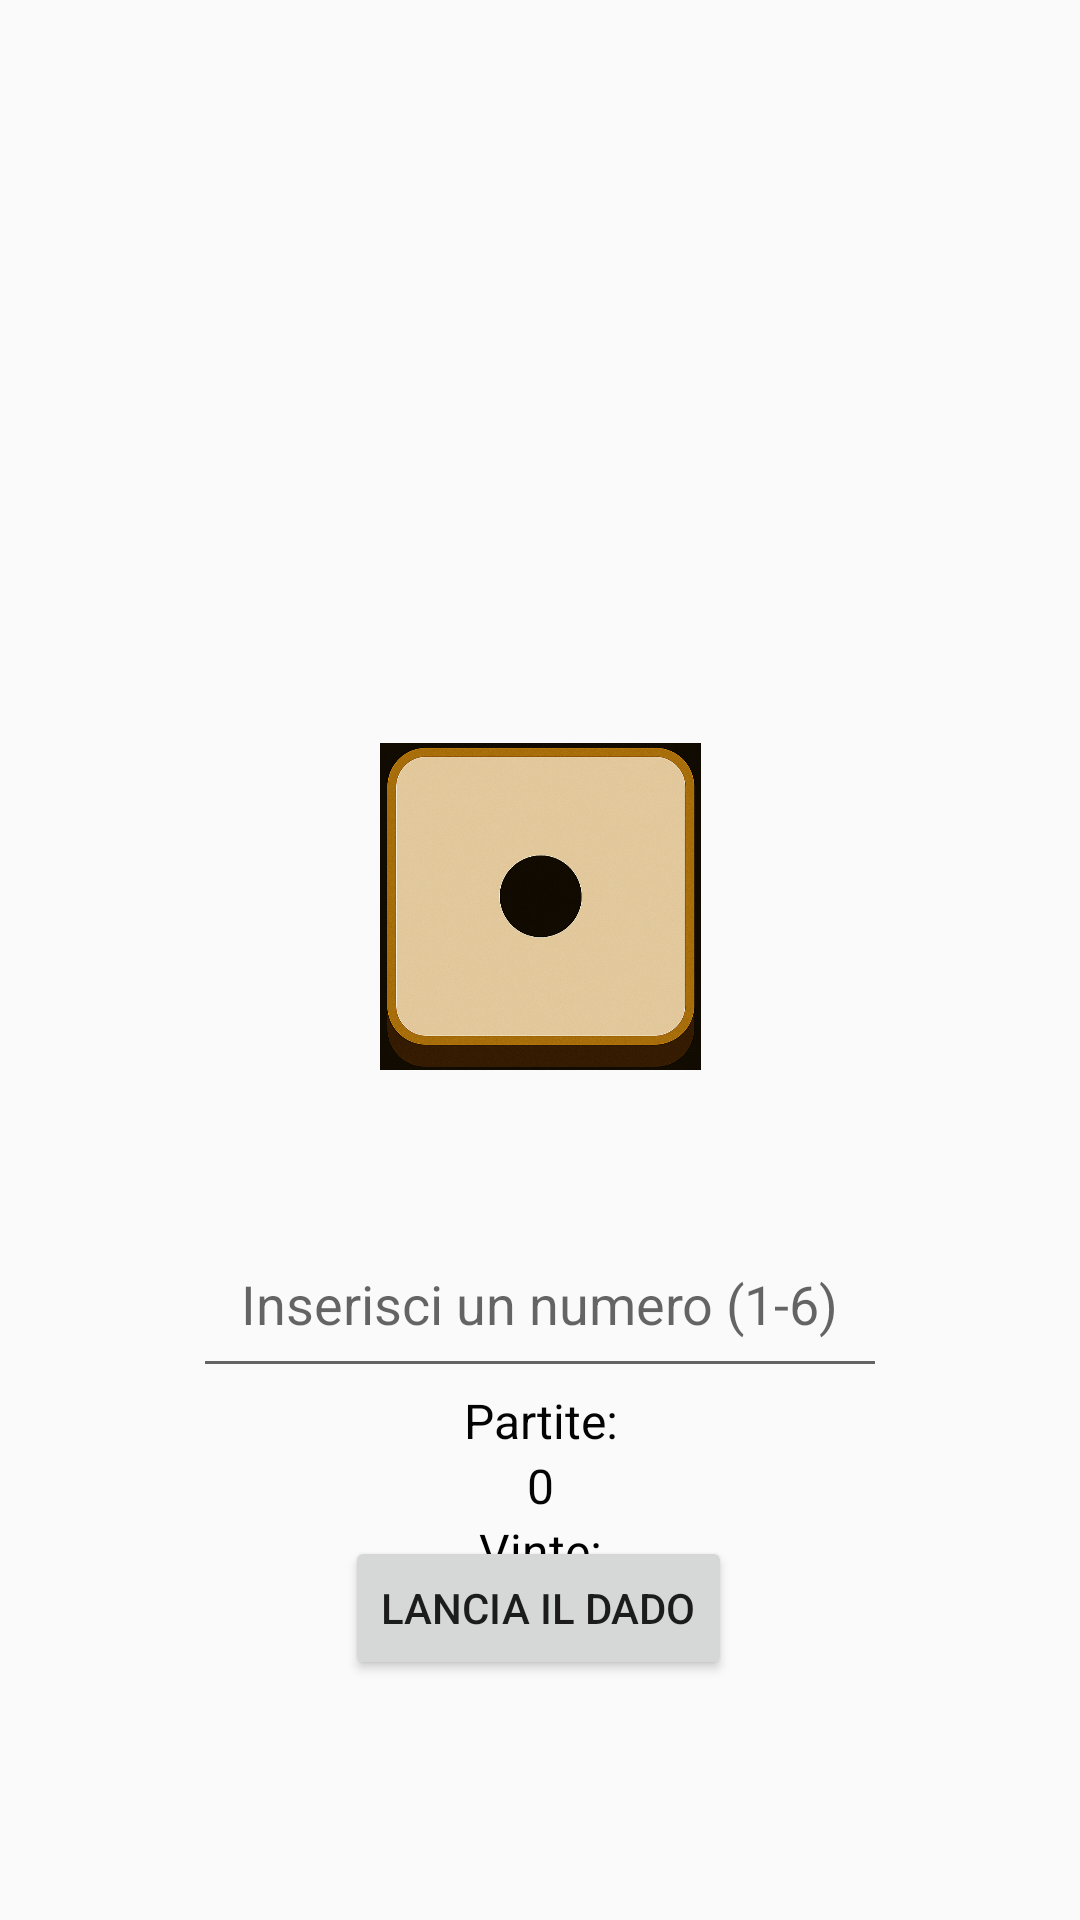

Icon bounding boxes for this 1080x1920 phone screenshot, format (x1, y1, x2, y2):
dice face: (380, 743, 701, 1070)
